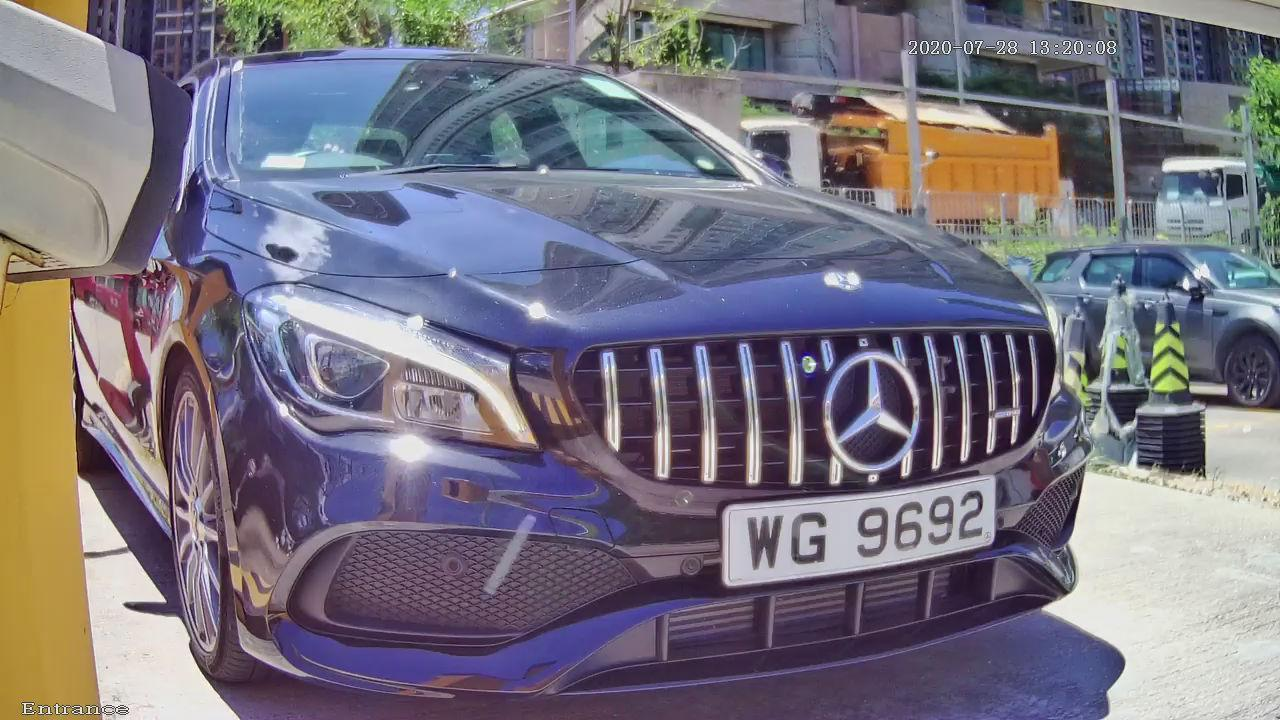privatecar: (63, 4, 1155, 714)
